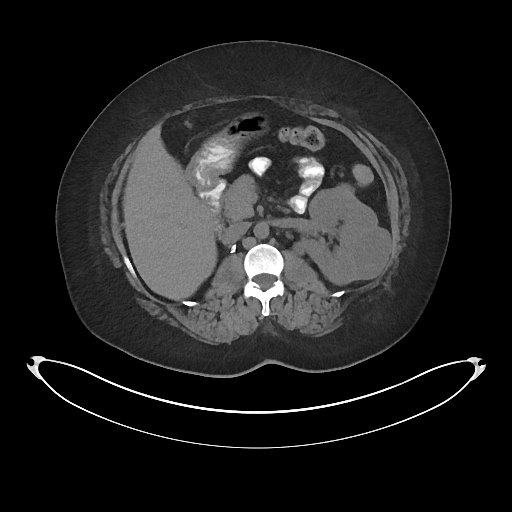Lesion: (340, 218, 394, 287)
